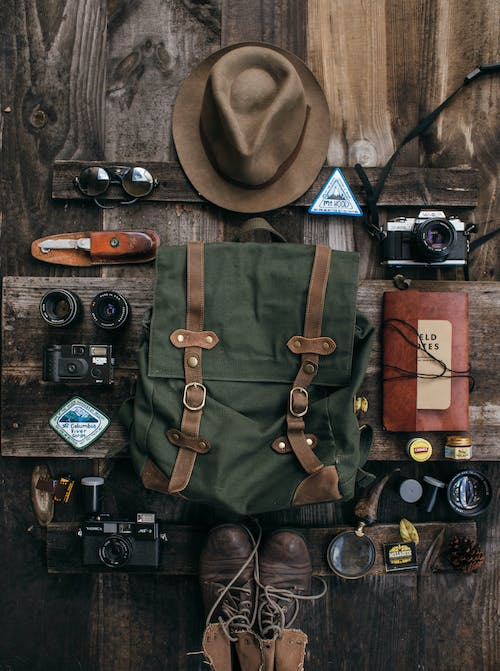knife: (34, 233, 90, 251)
